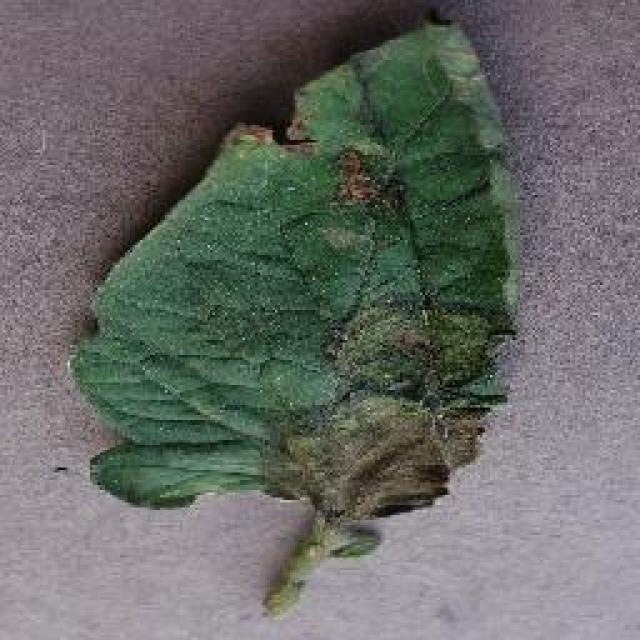Tomato___Late_blight: (68, 18, 520, 622)
